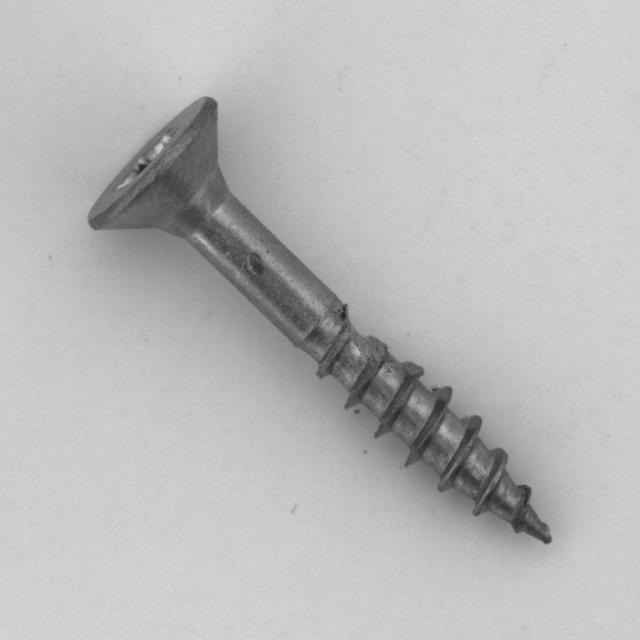Screw: (83, 57, 581, 575)
